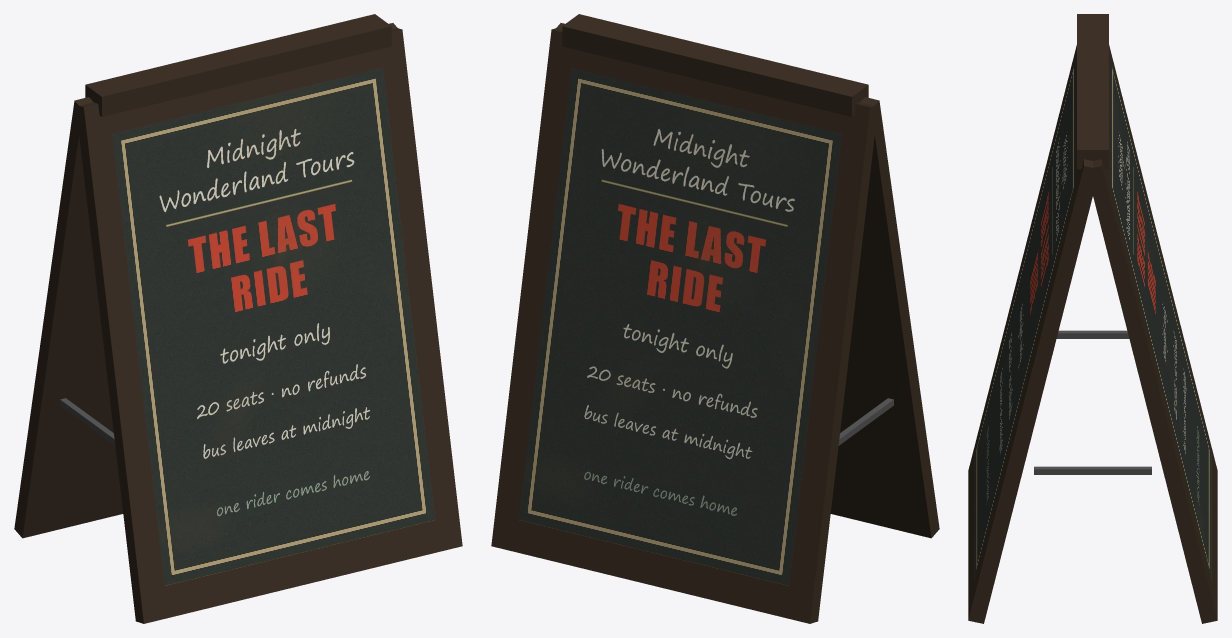
Rendered from tour_board.glb.
The picture shows the model from 3 angles, left to right: view 1: azimuth 30°, elevation 25°; view 2: azimuth 150°, elevation 25°; view 3: azimuth 270°, elevation 25°; orthographic projection. The views are drawn at different scales.
Parts seen in each view (by area): view 1: poster, hinge, chain; view 2: poster, hinge, chain; view 3: hinge, poster, chain.
Boxes of the visible parts, left/top/right/bottom form: poster: left=112, top=68, right=435, bottom=585; hinge: left=14, top=14, right=462, bottom=623; chain: left=60, top=398, right=115, bottom=445; poster: left=518, top=68, right=841, bottom=585; hinge: left=491, top=14, right=939, bottom=623; chain: left=838, top=398, right=893, bottom=445; hinge: left=968, top=14, right=1217, bottom=623; poster: left=974, top=57, right=1211, bottom=580; chain: left=1034, top=330, right=1151, bottom=474.
Size of the model in its own units: 0.66 by 0.9611 by 0.4652.
3 materials, 1 textured.
